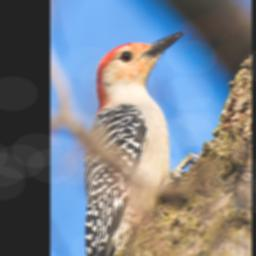Woodpecker: (84, 28, 186, 256)
